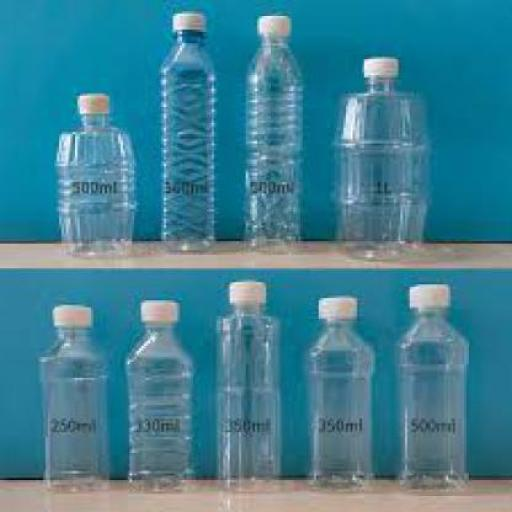plastic: (327, 55, 426, 259), (396, 282, 467, 493), (214, 280, 282, 492), (244, 14, 302, 252), (36, 304, 109, 492), (53, 91, 134, 255), (157, 12, 213, 248), (122, 300, 189, 492), (305, 294, 371, 486), (405, 280, 448, 310), (314, 294, 357, 318), (50, 303, 93, 327), (224, 278, 266, 302), (138, 299, 178, 323), (254, 14, 292, 34), (168, 10, 202, 32), (73, 90, 107, 112), (360, 55, 396, 74)
